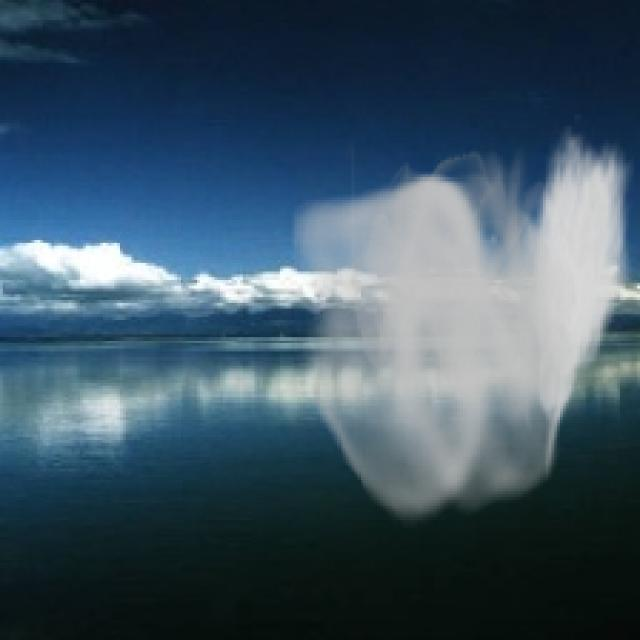smoke: (292, 126, 634, 531)
